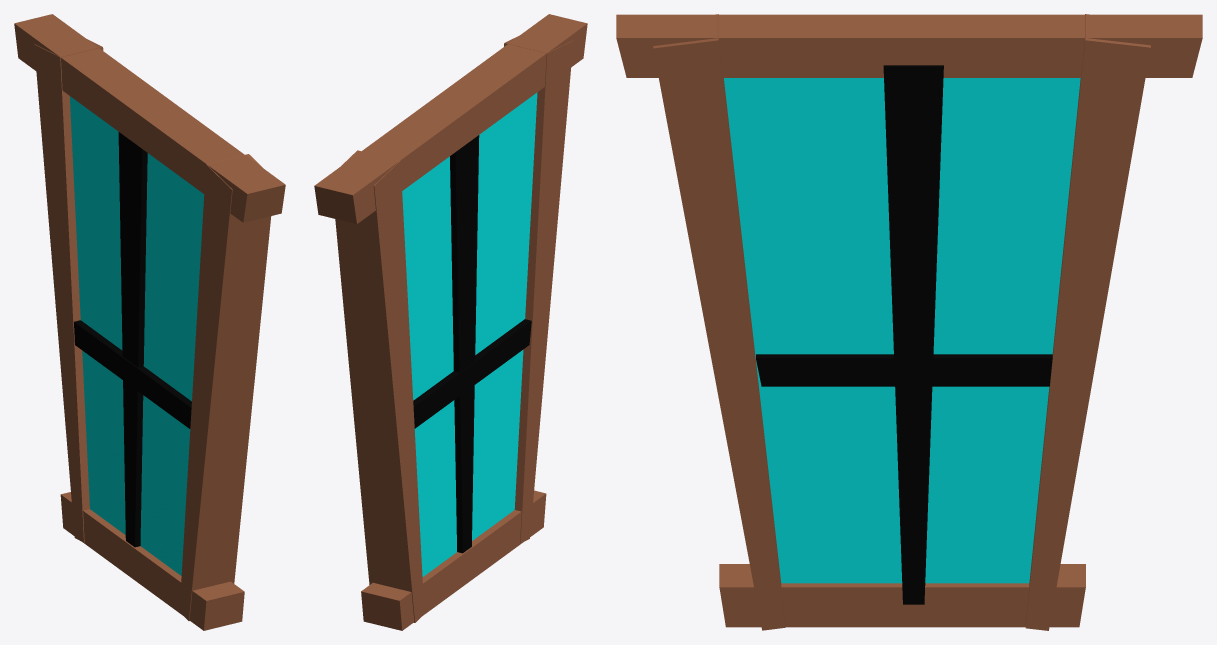
Rendered from WindowCartoon.fbx.
3 views of the same model, side by side, from view 1: azimuth 30°, elevation 25°; view 2: azimuth 150°, elevation 25°; view 3: azimuth 270°, elevation 25° (orthographic). The views are drawn at different scales.
Visible parts, largest first — view 1: pCube39, pCube42, pCube44, pCube43, pCube40, pCube45, pCube41; view 2: pCube39, pCube43, pCube44, pCube42, pCube40, pCube45, pCube41; view 3: pCube39, pCube44, pCube42, pCube43, pCube40, pCube45, pCube41.
Part boxes in pixels (x1=…): pCube39: x1=69, y1=96, x2=204, y2=575; pCube42: x1=179, y1=154, x2=271, y2=620; pCube44: x1=14, y1=14, x2=285, y2=222; pCube43: x1=34, y1=39, x2=103, y2=542; pCube40: x1=118, y1=132, x2=147, y2=547; pCube45: x1=60, y1=492, x2=244, y2=630; pCube41: x1=74, y1=320, x2=191, y2=428; pCube39: x1=402, y1=92, x2=537, y2=576; pCube43: x1=335, y1=150, x2=424, y2=622; pCube44: x1=314, y1=14, x2=587, y2=223; pCube42: x1=504, y1=36, x2=573, y2=543; pCube40: x1=450, y1=135, x2=479, y2=553; pCube45: x1=361, y1=490, x2=546, y2=630; pCube41: x1=413, y1=319, x2=531, y2=428; pCube39: x1=724, y1=78, x2=1080, y2=583; pCube44: x1=616, y1=14, x2=1202, y2=77; pCube42: x1=653, y1=14, x2=785, y2=630; pCube43: x1=1025, y1=14, x2=1150, y2=630; pCube40: x1=883, y1=65, x2=943, y2=604; pCube45: x1=719, y1=564, x2=1085, y2=627; pCube41: x1=756, y1=354, x2=1052, y2=386.
Bounding box in the file's own units: 0.2333 × 2.45 × 2.2.
